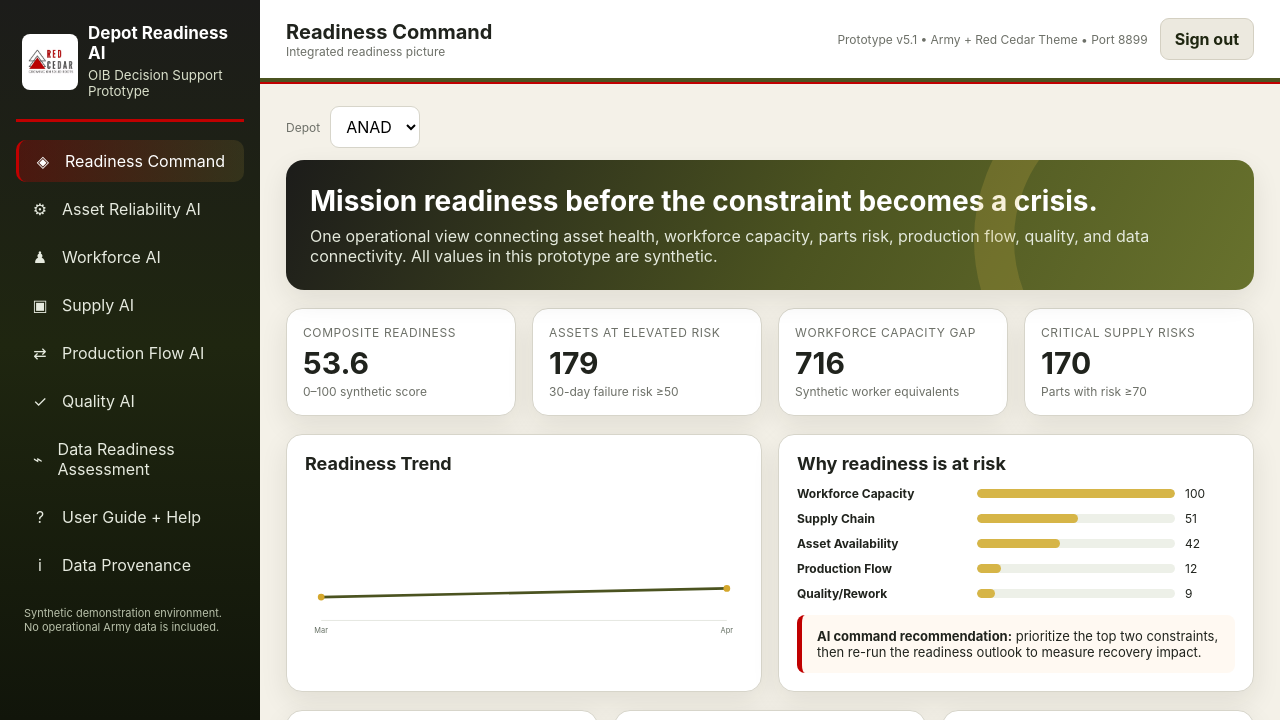
Depot Readiness React UI › limits depot controls and requests to the authenticated depot scope
expect the heading "Mission readiness before the constraint becomes a crisis." is shown: met, box top-left (310, 184), bottom-right (1230, 218)
expect the dropdown labelled "Depot" shows "ANAD": met, box top-left (330, 106), bottom-right (420, 148)
Click the button "⌁ Data Readiness Assessment" at (130, 459), box top-left (16, 428), bottom-right (244, 490)
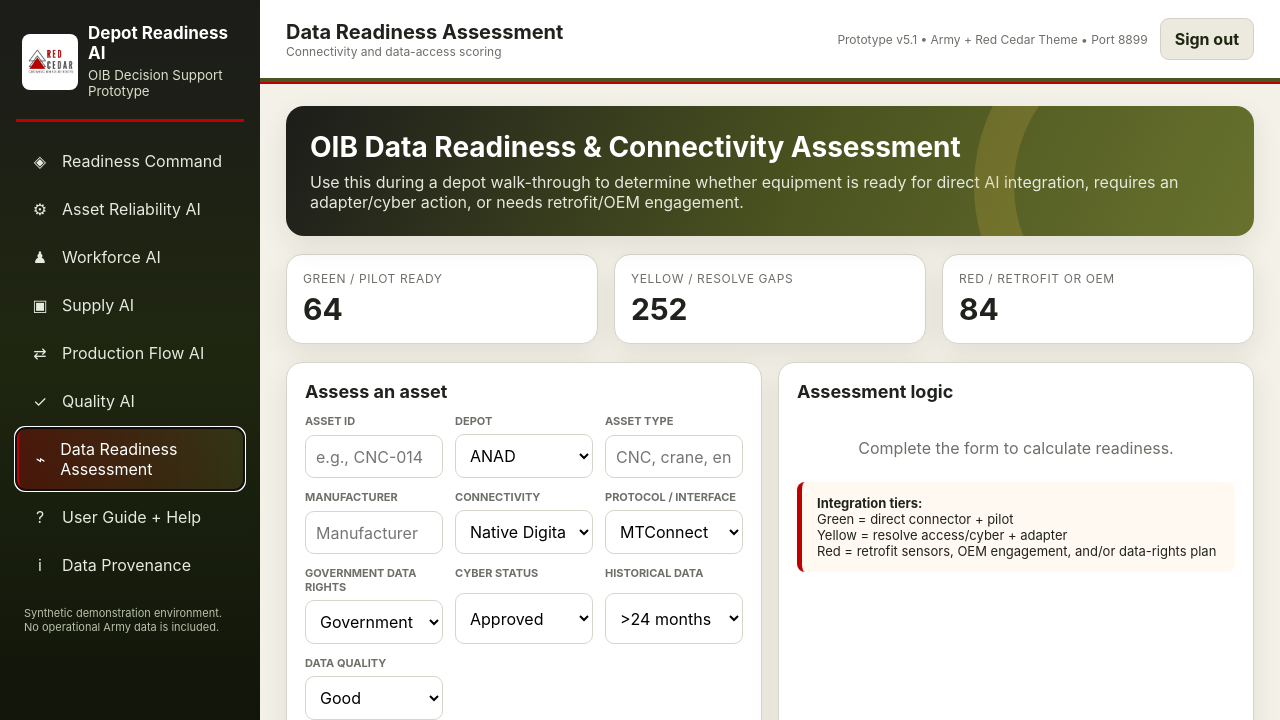
expect the heading "Assess an asset" is shown: met, box top-left (305, 381), bottom-right (447, 402)
